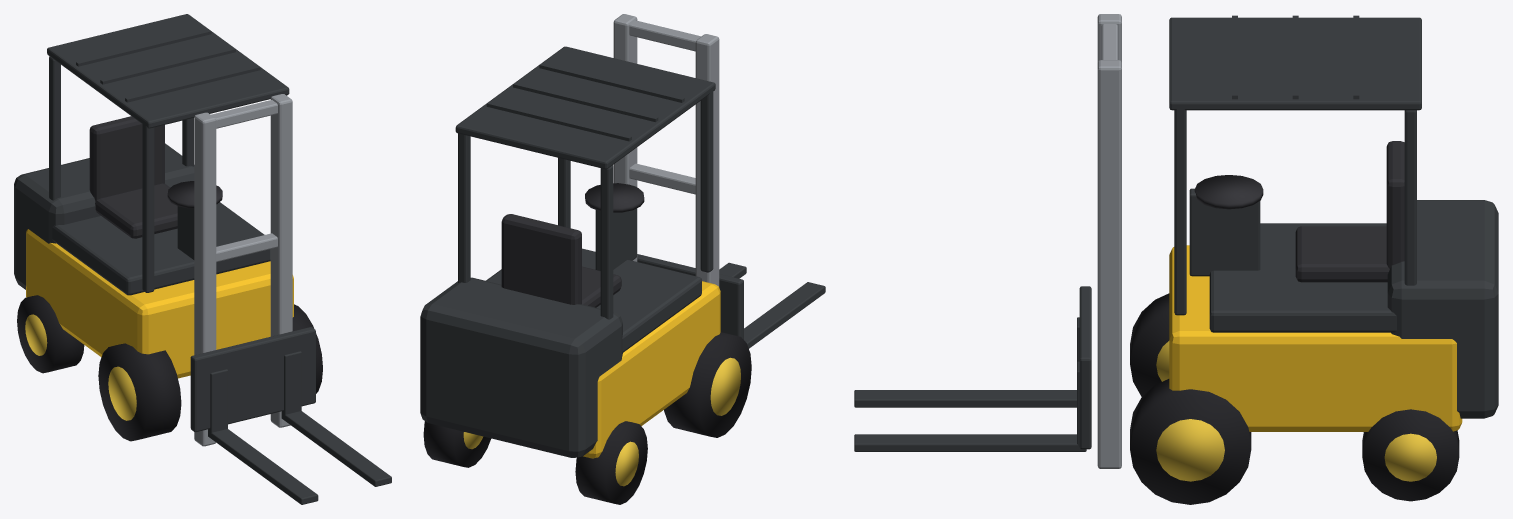
Rendered from forklift.glb.
3 views of the same model, side by side, from view 1: azimuth 30°, elevation 25°; view 2: azimuth 150°, elevation 25°; view 3: azimuth 270°, elevation 25° (orthographic). The views are drawn at different scales.
Parts seen in each view (by area): view 1: Cube; view 2: Cube; view 3: Cube.
Boxes of the visible parts, box(x1,y1,x2,y2) form: Cube: box(14, 14, 391, 504); Cube: box(420, 14, 825, 504); Cube: box(854, 14, 1498, 504).
Bounding box in the file's own units: 1.25 × 2.25 × 3.19.
